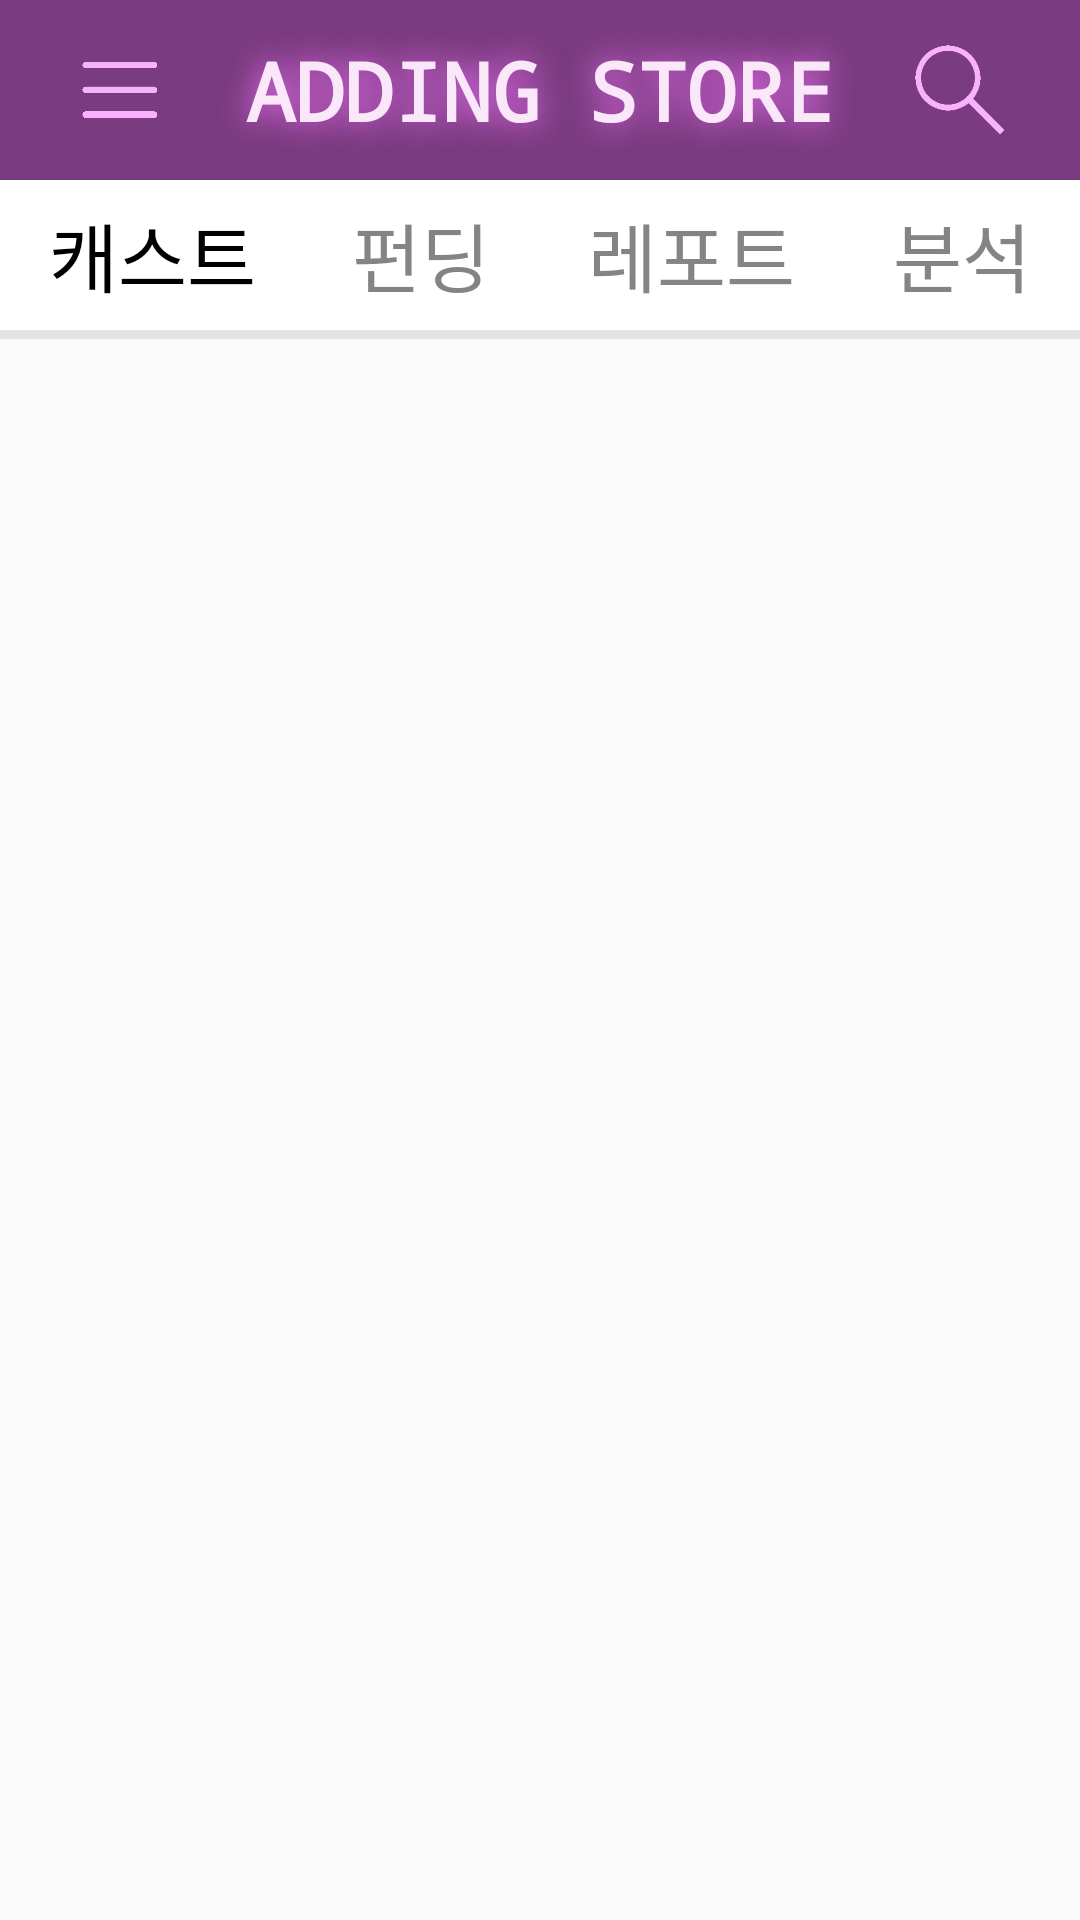

Icon click points for this 1080px x 1920px phone screenshot, format point (x, y):
menu: point (119, 90)
search: point (959, 89)
